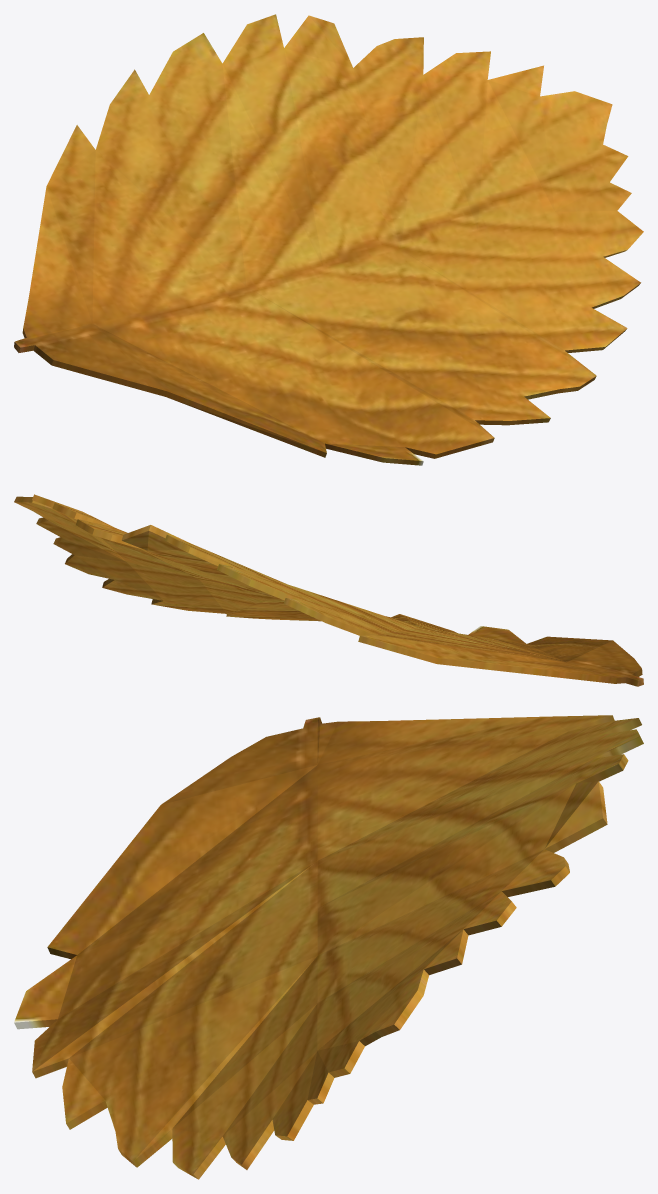
File: leaf3_collision.dae
The picture shows the model from 3 angles, top to bottom: view 1: azimuth 30°, elevation 25°; view 2: azimuth 150°, elevation 25°; view 3: azimuth 270°, elevation 25°; orthographic projection. The views are drawn at different scales.
Parts seen in each view (by area): view 1: Plane; view 2: Plane; view 3: Plane.
Part boxes in pixels (<box>): Plane: <box>14,14,643,465</box>; Plane: <box>14,494,643,686</box>; Plane: <box>14,715,643,1179</box>.
Size of the model in its own units: 0.1376 by 0.0946 by 0.055.
1 material, 1 textured.
